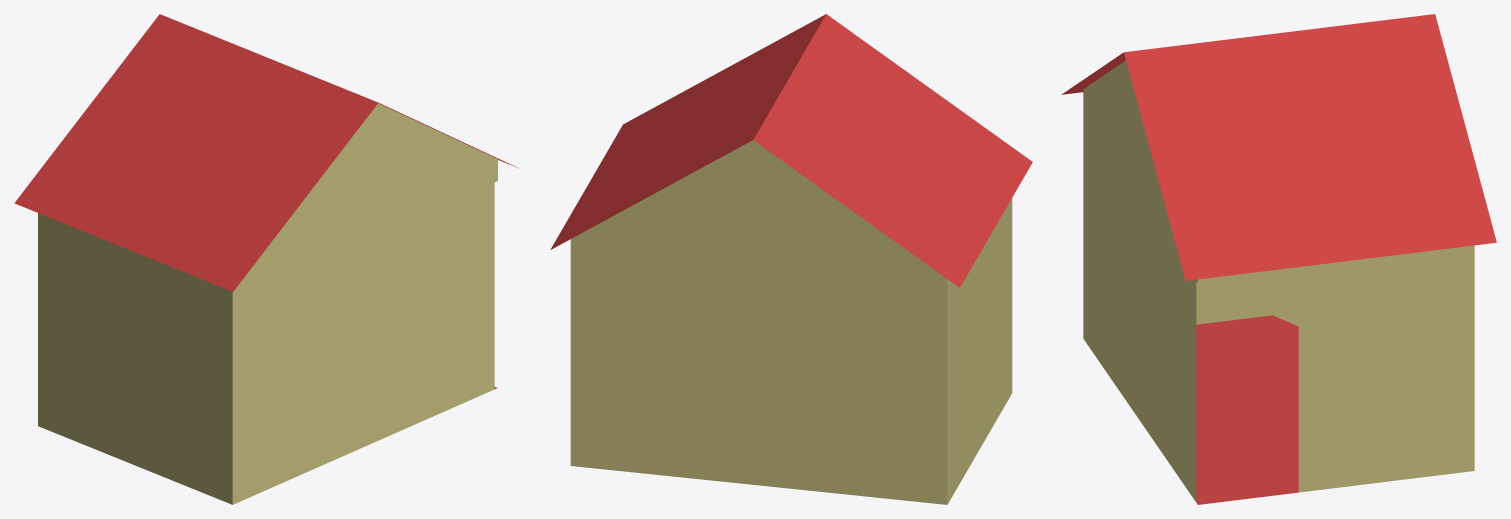
3 renders of one model, left to right at view 1: azimuth 30°, elevation 25°; view 2: azimuth 150°, elevation 25°; view 3: azimuth 270°, elevation 25°, orthographic. The views are drawn at different scales.
Bounding box in the file's own units: 14.43 × 12.13 × 11.43.
